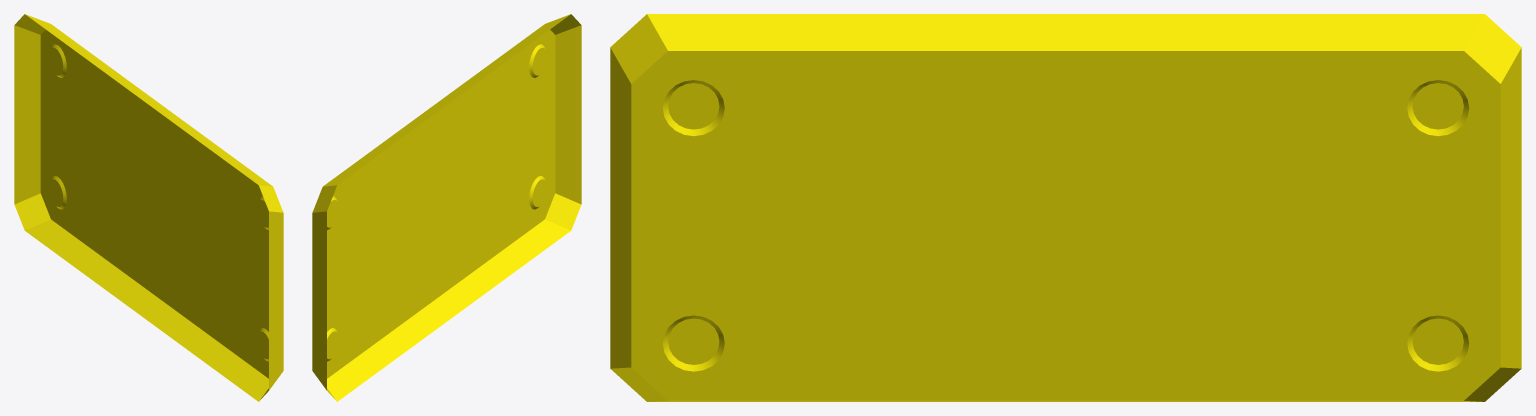
The model's file is Building_Baffle_Metal_02a_snaps016.fbx.
3 renders of one model, left to right at view 1: azimuth 30°, elevation 25°; view 2: azimuth 150°, elevation 25°; view 3: azimuth 270°, elevation 25°, orthographic. The views are drawn at different scales.
Visible parts, largest first — view 1: Building_Baffle_Metal_02a_snaps016_LOD0; view 2: Building_Baffle_Metal_02a_snaps016_LOD0; view 3: Building_Baffle_Metal_02a_snaps016_LOD0.
Part boxes in pixels (x1=…): Building_Baffle_Metal_02a_snaps016_LOD0: x1=14, y1=14, x2=283, y2=401; Building_Baffle_Metal_02a_snaps016_LOD0: x1=312, y1=14, x2=581, y2=401; Building_Baffle_Metal_02a_snaps016_LOD0: x1=610, y1=14, x2=1521, y2=401.
Size of what is drawn, in the model's own units: 0.0805 by 0.8155 by 1.74.
